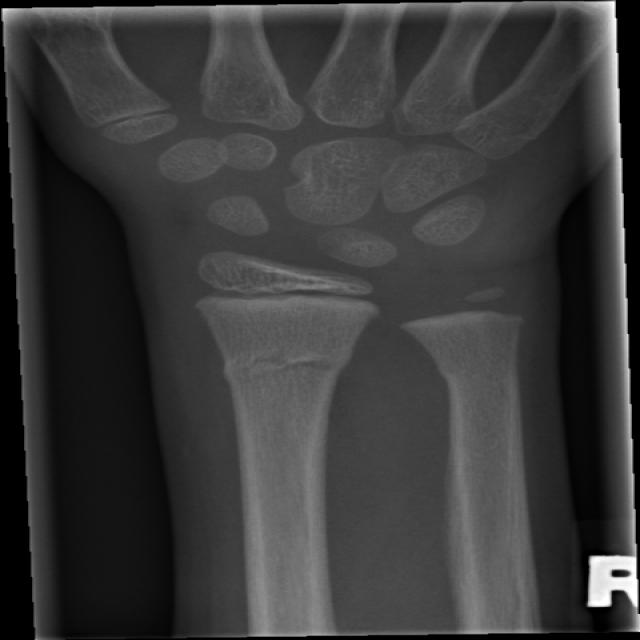radius fracture: (211, 308, 361, 422)
